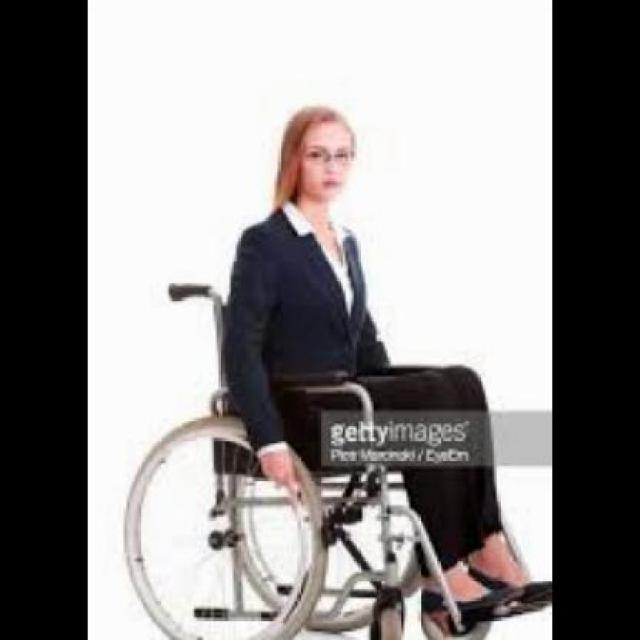wheelchairs: (123, 273, 549, 640)
